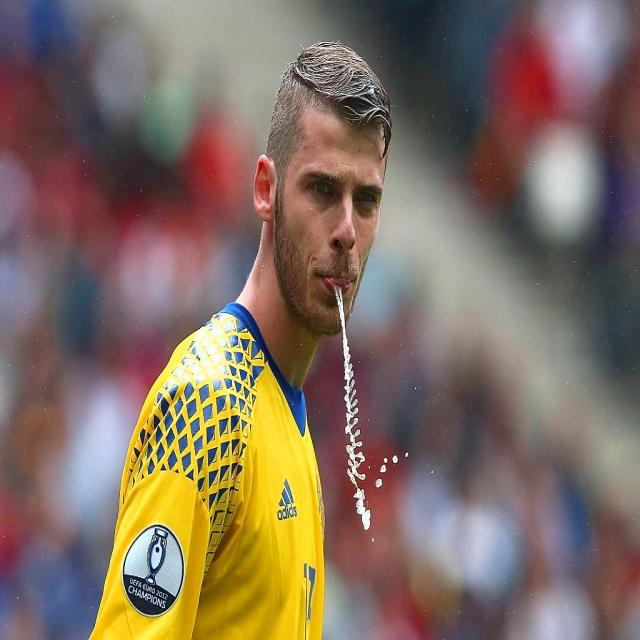Spitting: (247, 42, 405, 444)
